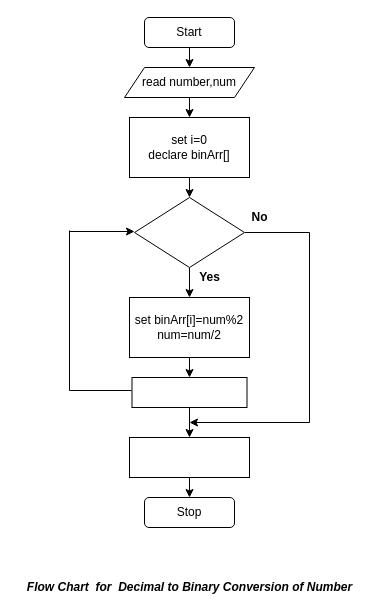
The diagram is 379 pixels wide and 615 high, and some of its shapes have lost their labels. Each missing label, with the centre of its shape:
i=i+1: (x=189, y=392)
num>0: (x=189, y=232)
print binArr[] in reverse: (x=189, y=457)
